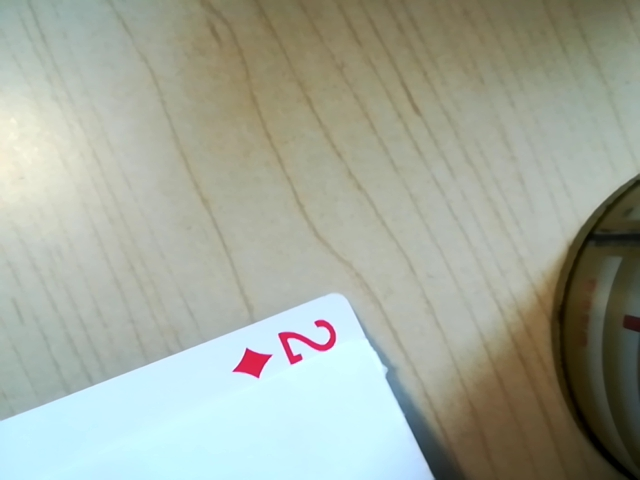fk 2: (223, 317, 352, 381)
